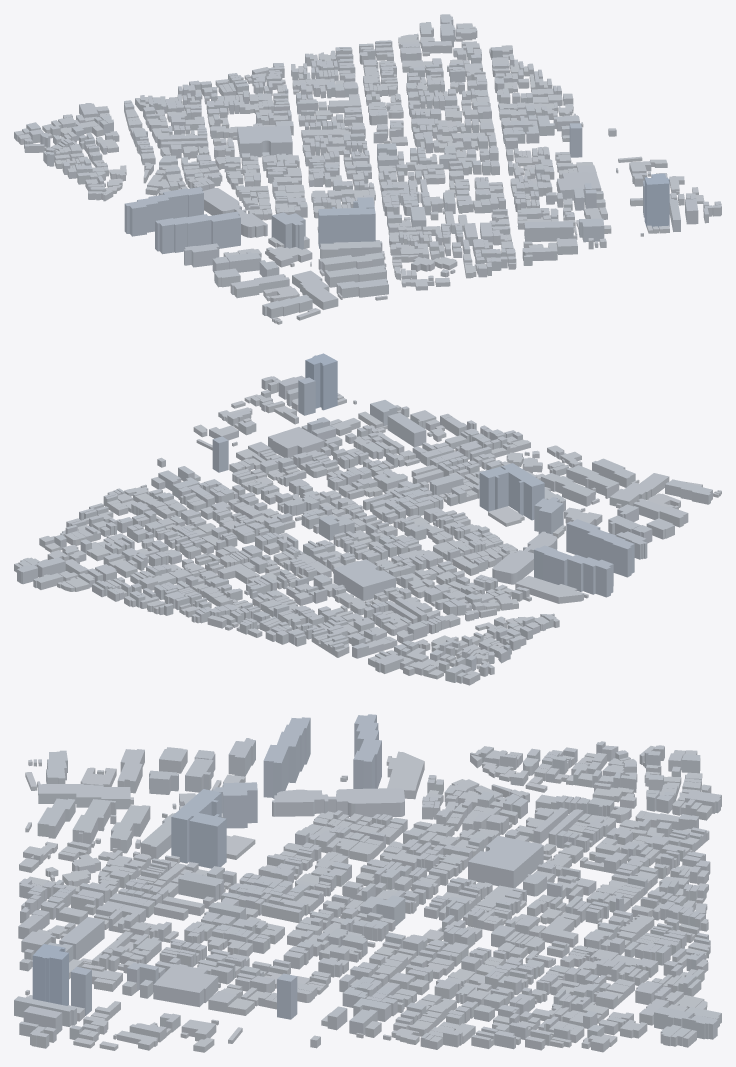
The picture shows the model from 3 angles, top to bottom: view 1: azimuth 30°, elevation 25°; view 2: azimuth 150°, elevation 25°; view 3: azimuth 270°, elevation 25°; orthographic projection. The views are drawn at different scales.
Bounding box in the file's own units: 523 × 46.4 × 518.
